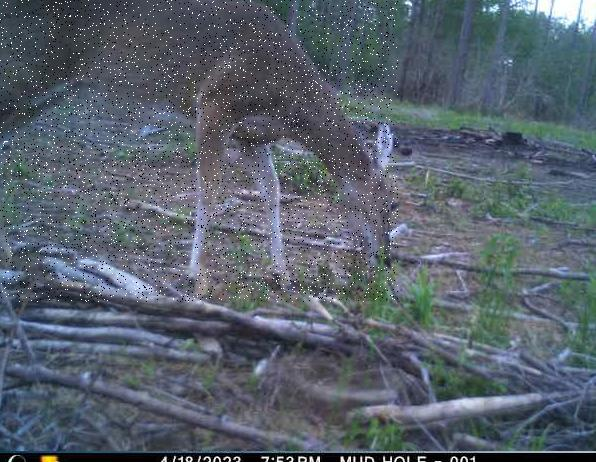Deer: (0, 0, 398, 302)
